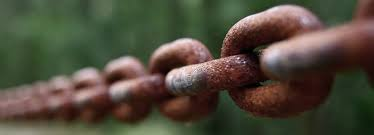rust: (153, 4, 371, 126), (34, 65, 164, 124)
